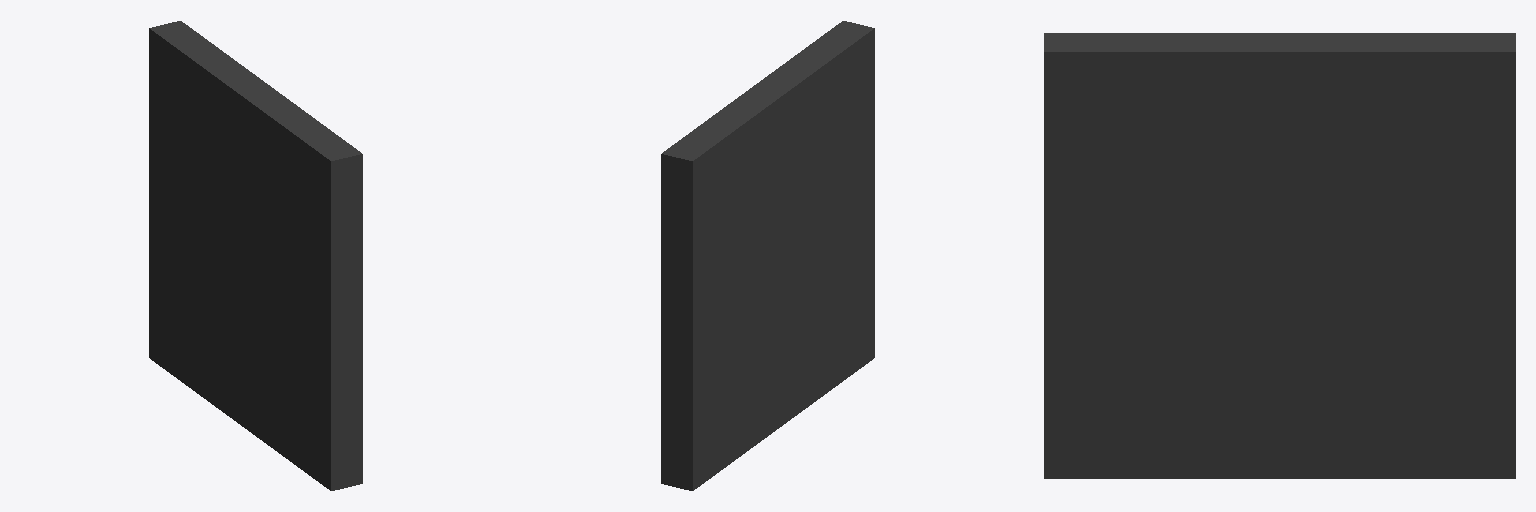
URDF robot description (box):
<?xml version='1.0' encoding='UTF-8'?>
<robot name="box">
  <link name="base_link">
    <inertial>
      <origin xyz="0.0 0.0 0.0" rpy="0.0 -0.0 0.0"/>
      <mass value="1.0"/>
      <inertia ixx="1.0" ixy="0.0" ixz="0.0" iyy="1.0" iyz="0.0" izz="1.0"/>
    </inertial>
    <visual name="base_link_visual">
      <geometry>
        <box size="0.1 1.0 1.0"/>
      </geometry>
      <material name="base_link_color">
        <color rgba="0.3 0.3 0.3 1"/>
      </material>
      <origin xyz="0 0 0" rpy="0 0 0"/>
    </visual>
    <collision name="base_link_collision">
      <geometry>
        <box size="0.1 1.0 1.0"/>
      </geometry>
      <origin xyz="0 0 0" rpy="0 0 0"/>
    </collision>
  </link>
</robot>

--- What the picture shows (computed from the rendered views, not written in the file) ---
The picture shows the robot from 3 angles, left to right: view 1: azimuth 30°, elevation 25°; view 2: azimuth 150°, elevation 25°; view 3: azimuth 270°, elevation 25°; orthographic projection.
Robot: box — 1 links, 0 joints (none); root link base_link; default pose: all joints at 0.
Visible links, largest first — view 1: base_link; view 2: base_link; view 3: base_link.
Link boxes in pixels (x1=…): base_link: x1=149, y1=21, x2=362, y2=490; base_link: x1=661, y1=21, x2=874, y2=490; base_link: x1=1044, y1=33, x2=1515, y2=478.
Size in the robot's own frame: 0.1 by 1 by 1 metres.
Geometry: primitives only (box / cylinder / sphere), no mesh files.